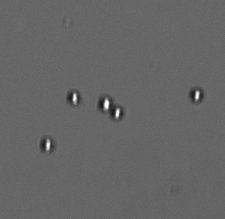Living Cell: (186, 84, 205, 105), (96, 93, 112, 114), (110, 103, 125, 123), (65, 89, 81, 107), (38, 136, 55, 152)
